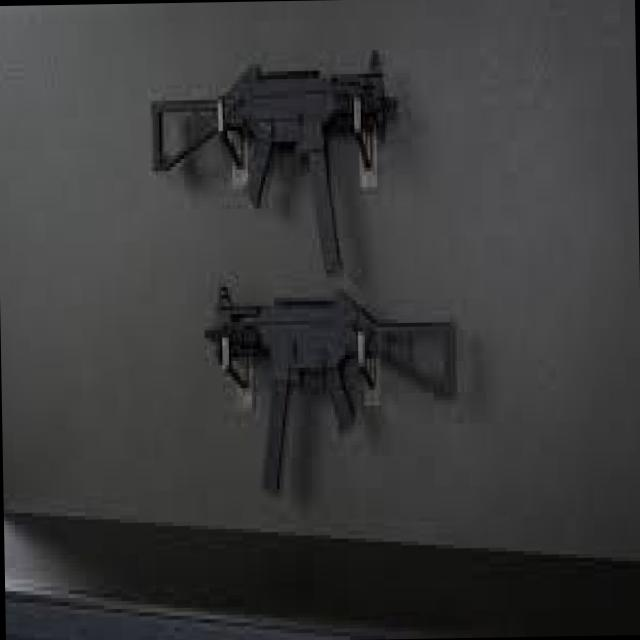Gun: (124, 44, 420, 287), (204, 269, 466, 489)
